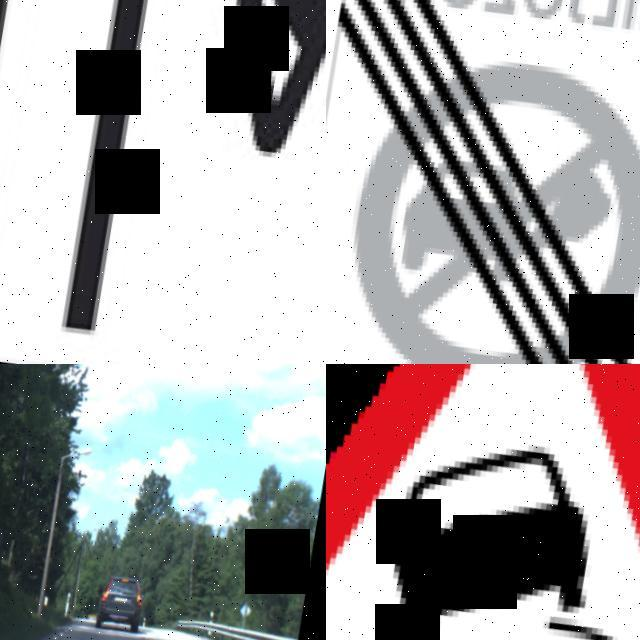110: (326, 0, 640, 364)
66: (0, 0, 326, 364)
Slippery road: (326, 364, 640, 640)
